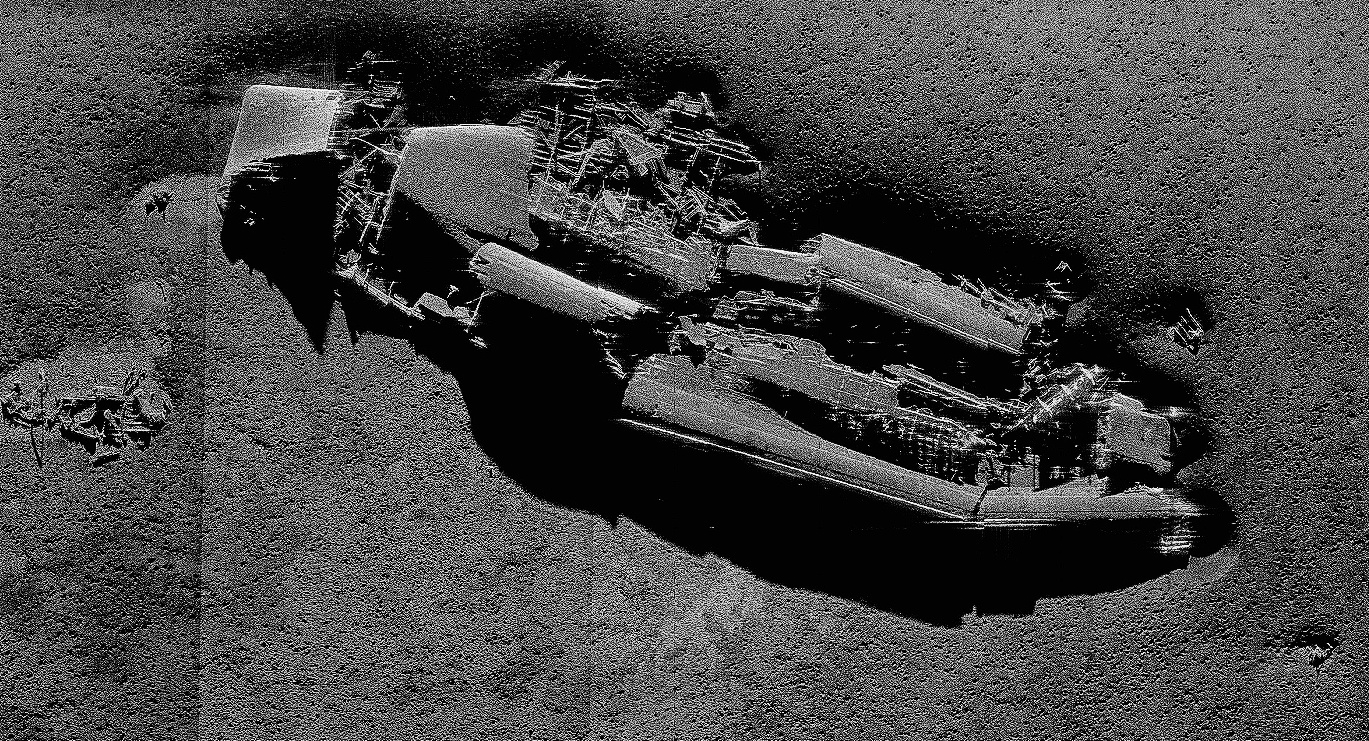ship: (221, 44, 1208, 562)
